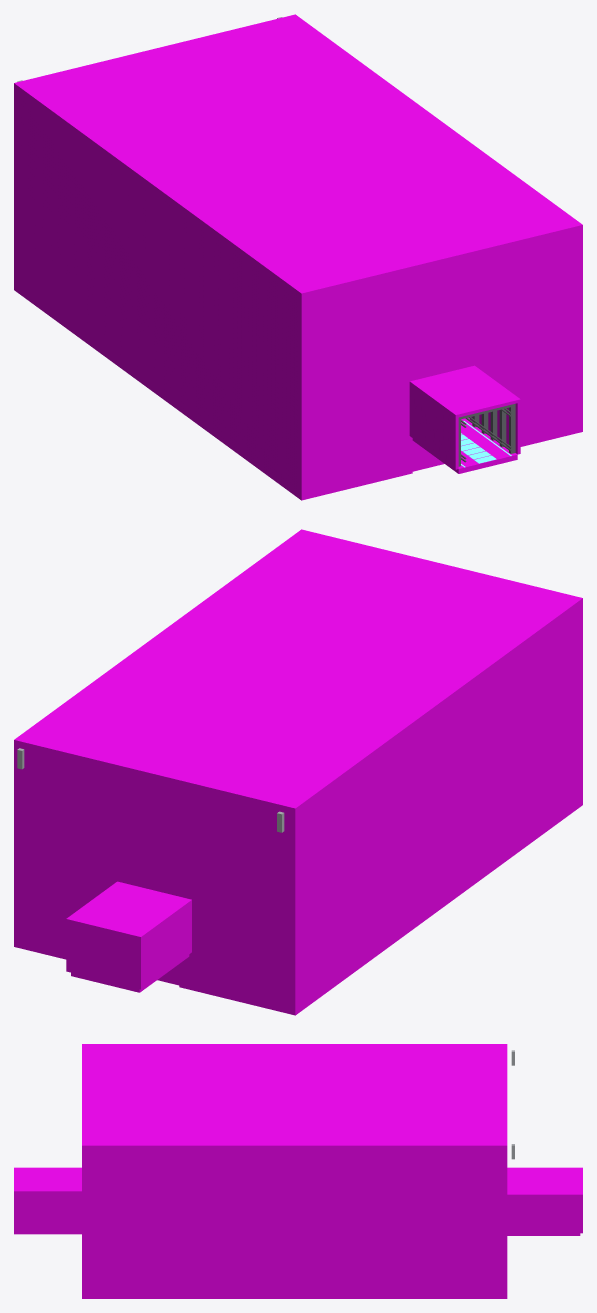
The model's file is wing1-cargo.glb.
3 renders of one model, top to bottom at view 1: azimuth 30°, elevation 25°; view 2: azimuth 150°, elevation 25°; view 3: azimuth 270°, elevation 25°, orthographic. The views are drawn at different scales.
Visible parts, largest first — view 1: COL_Wing1, W1_Corridor; view 2: COL_Wing1; view 3: COL_Wing1.
Part boxes in pixels (<box>): COL_Wing1: <box>14,14,582,500</box>; W1_Corridor: <box>458,403,515,467</box>; COL_Wing1: <box>14,529,582,1015</box>; COL_Wing1: <box>14,1044,582,1298</box>.
Size of the model in its own units: 28.6 by 20.1 by 67.7.
